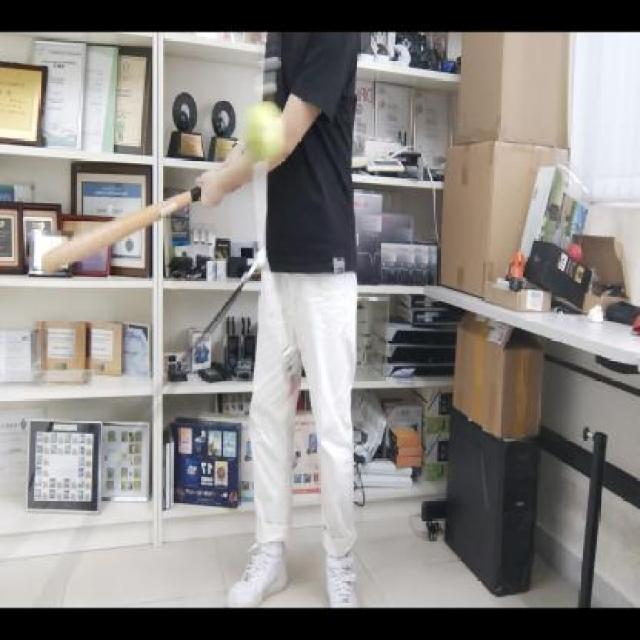baseball: (242, 96, 284, 164)
